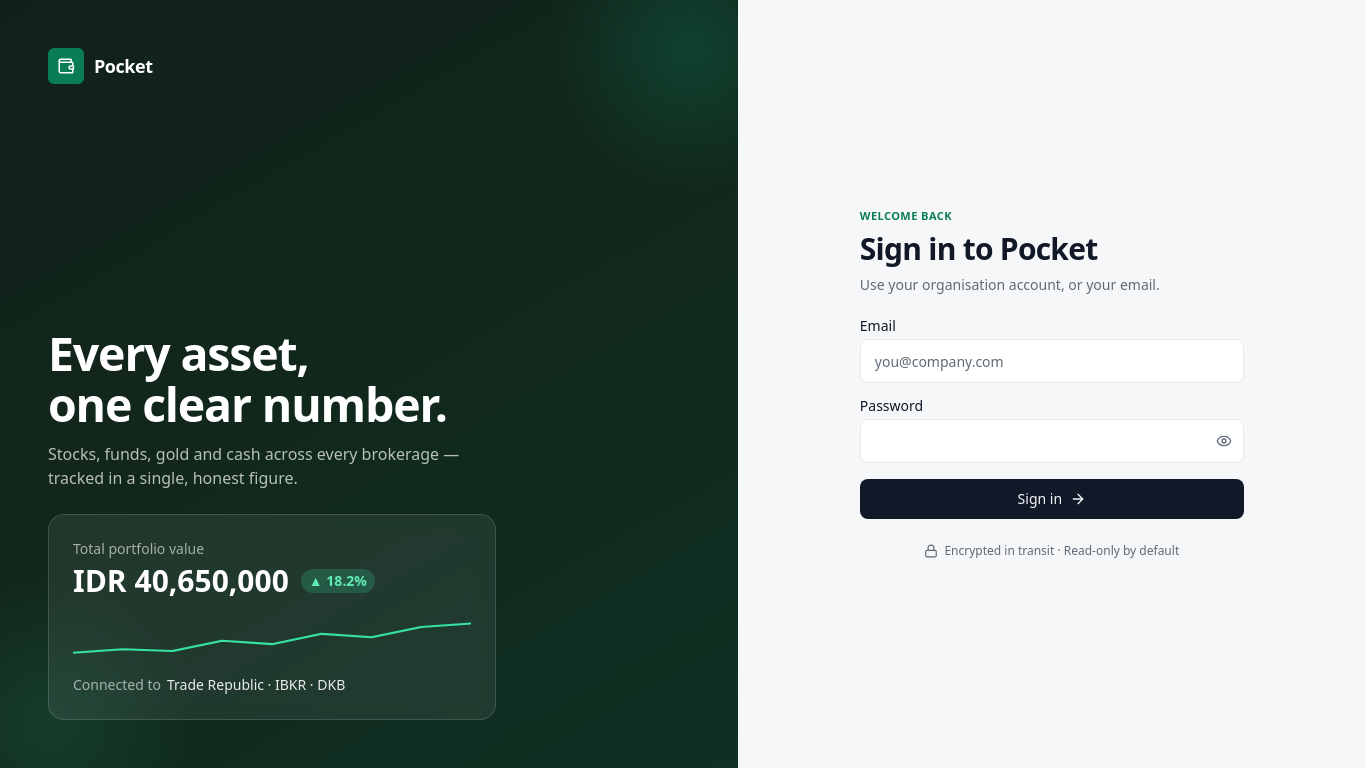
Test: Landing (Pocket split-hero sign-in) › shows an inline error instead of navigating away on a failed local sign-in
Type "owner@example.com" into the field labelled "Email" at coordinates (1052, 361), box [860, 339, 1244, 383]
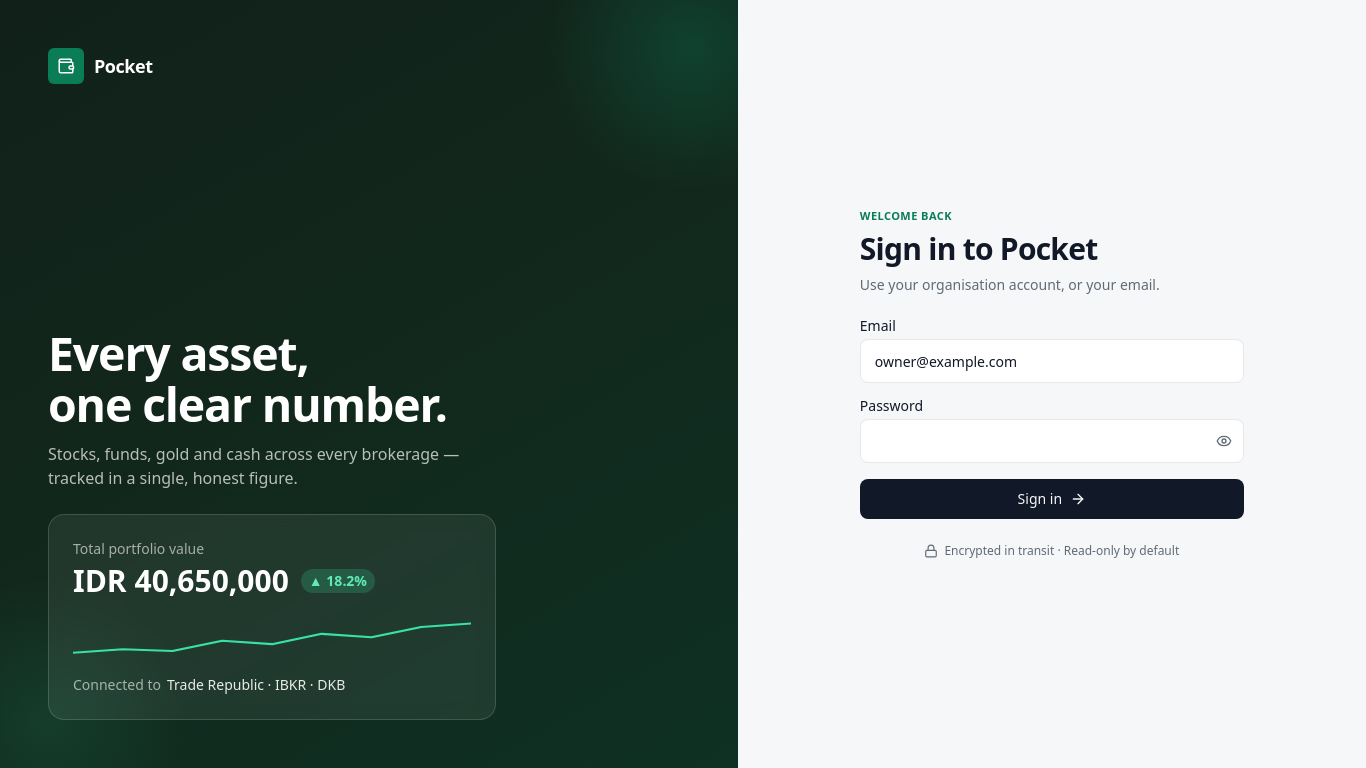
Type "wrong-password" into the password field labelled "Password" at coordinates (1052, 441), box [860, 419, 1244, 463]
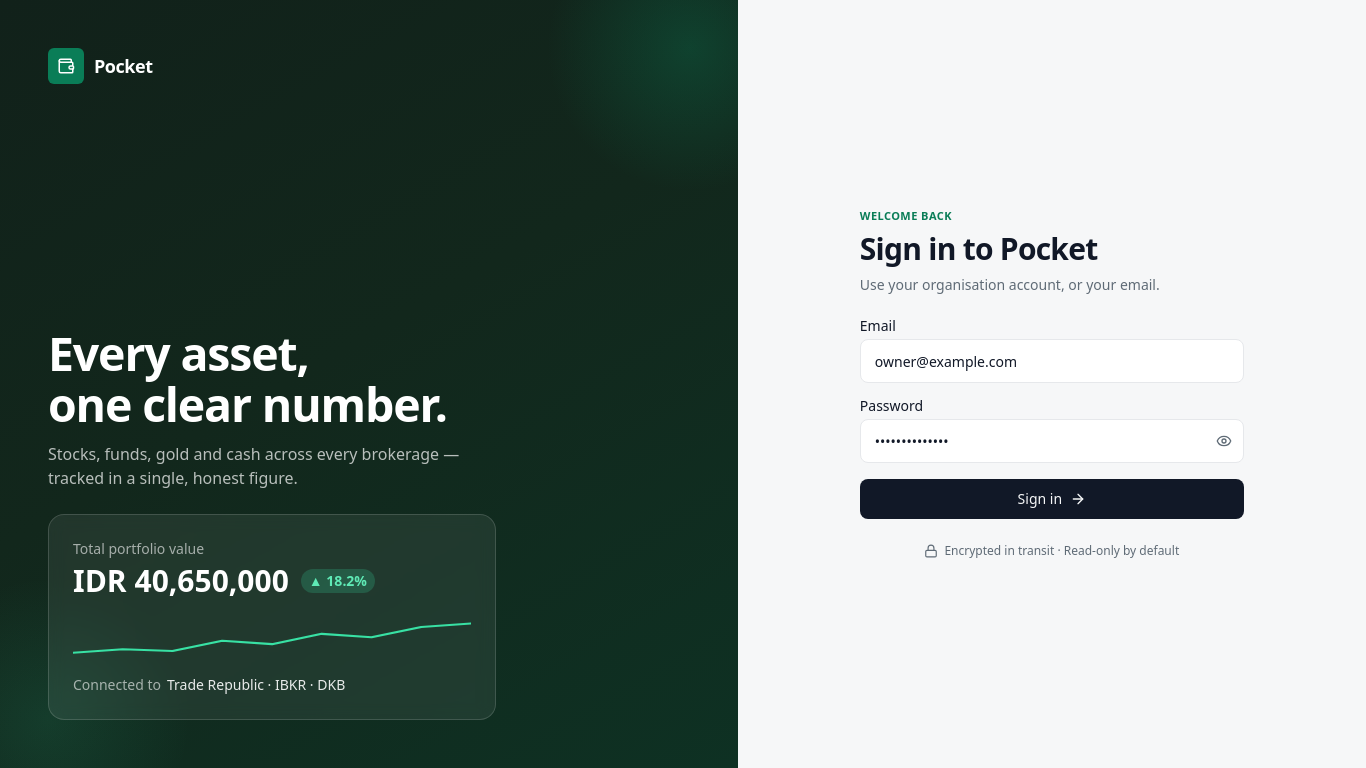
Click the button "Sign in" at coordinates (1052, 499), box [860, 479, 1244, 519]
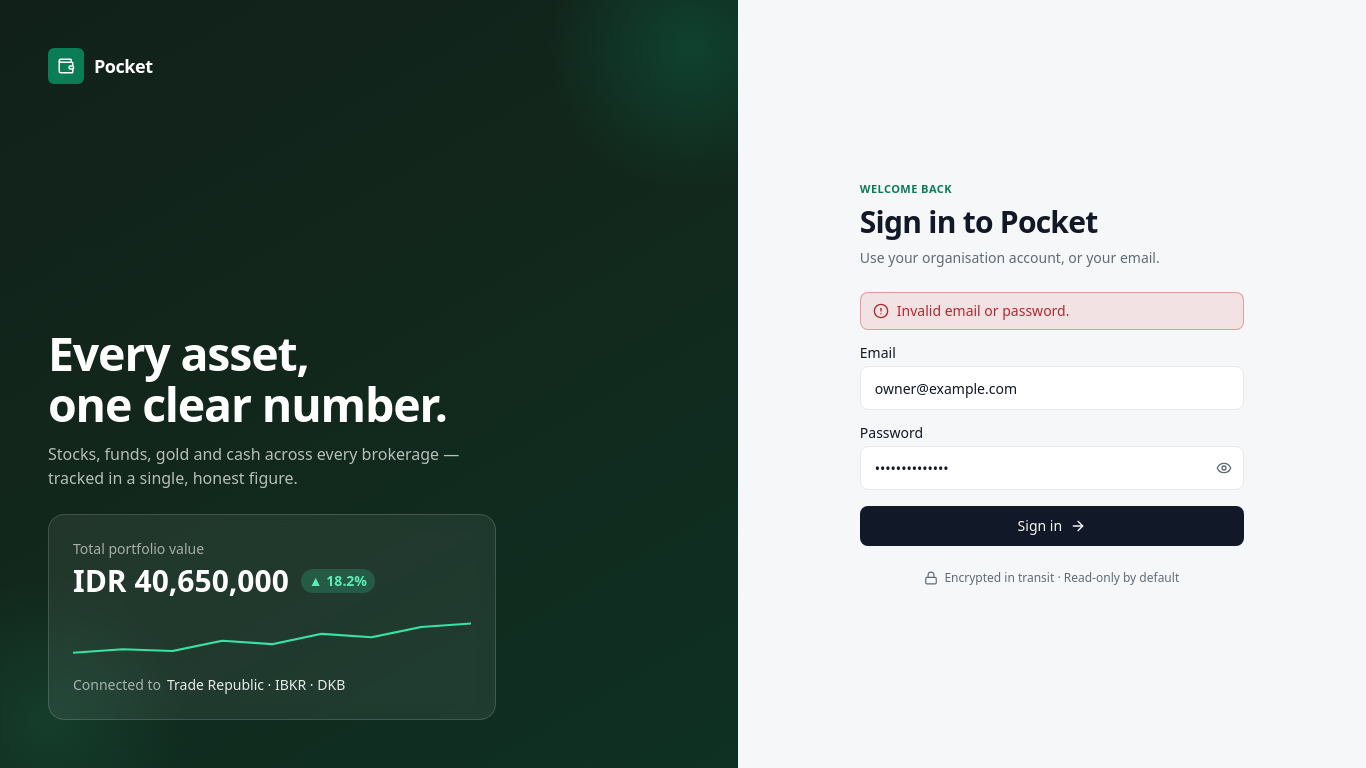
Result: the message reads "Invalid email or password." at [897, 301, 1070, 320]
